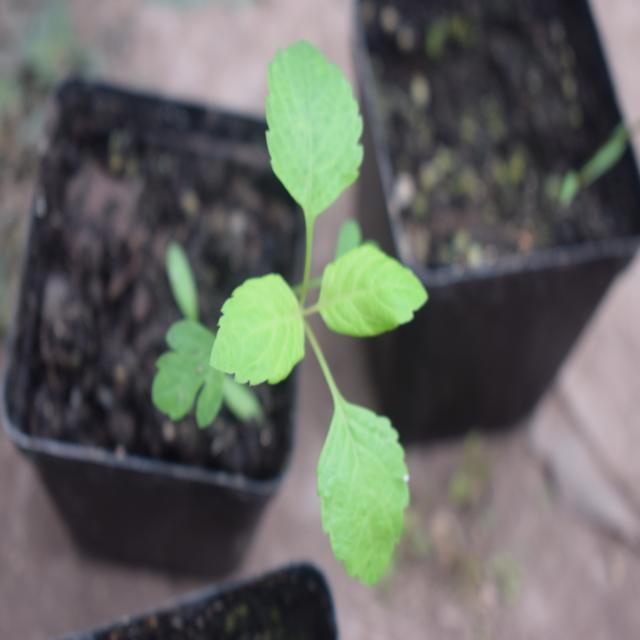Bidens pilosa: (188, 14, 431, 591)
